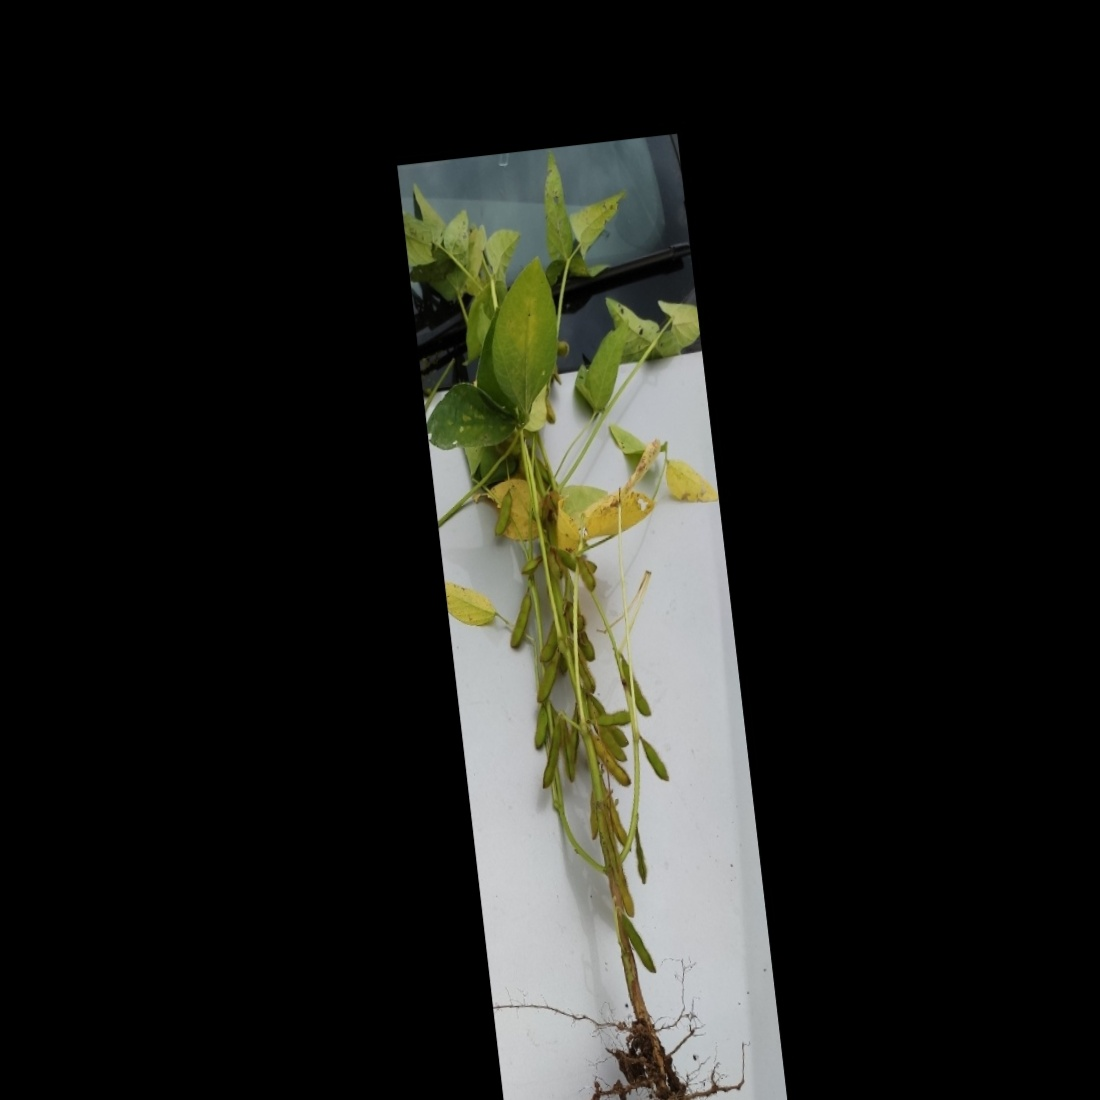pod: (533, 719, 570, 793), (622, 911, 658, 979), (592, 732, 633, 792), (621, 656, 654, 723), (636, 729, 671, 788), (529, 655, 566, 708), (505, 591, 537, 651), (486, 487, 518, 538), (528, 703, 551, 753)
soy: (426, 169, 749, 1100)
